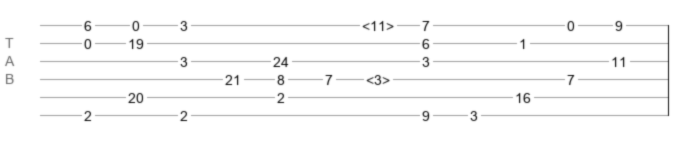0: (84, 36, 92, 46), (132, 18, 140, 28), (567, 18, 575, 28)
1: (519, 36, 527, 46)
11: (611, 54, 627, 64)
16: (515, 90, 531, 100)
19: (128, 36, 144, 46)
2: (84, 108, 92, 118), (180, 108, 188, 118), (277, 90, 285, 100)
20: (128, 90, 144, 100)
21: (225, 72, 241, 82)
24: (273, 54, 289, 64)
3: (180, 54, 188, 64), (180, 18, 188, 28), (422, 54, 430, 64), (470, 108, 478, 118)
6: (84, 18, 92, 28), (422, 36, 430, 46)
7: (325, 72, 333, 82), (422, 18, 430, 28), (567, 72, 575, 82)
8: (277, 72, 285, 82)
9: (422, 108, 430, 118), (615, 18, 623, 28)
harmonic: (362, 18, 394, 28), (366, 72, 390, 82)
